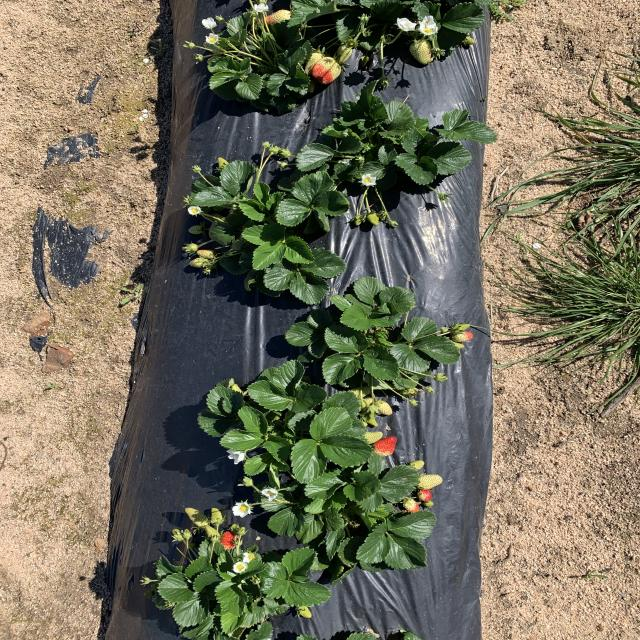unripe: (214, 528, 242, 553), (371, 435, 399, 456), (416, 488, 434, 502)
